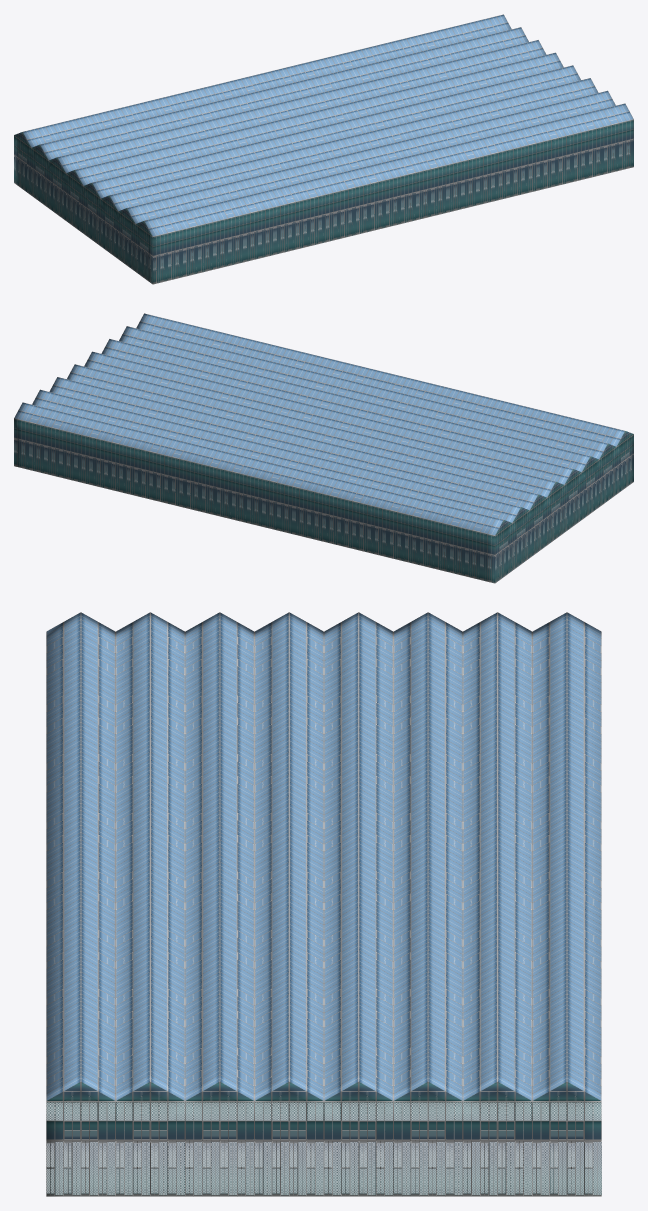
File: kas_mod3_5a.fbx
3 views of the same model, one above another, from view 1: azimuth 30°, elevation 25°; view 2: azimuth 150°, elevation 25°; view 3: azimuth 270°, elevation 25° (orthographic). The views are drawn at different scales.
Parts seen in each view (by area): view 1: kas_mod3_5a; view 2: kas_mod3_5a; view 3: kas_mod3_5a.
Part boxes in pixels (x1,y1,x2,y2): kas_mod3_5a: [14, 14, 633, 284]; kas_mod3_5a: [14, 313, 633, 583]; kas_mod3_5a: [46, 612, 601, 1196].
Size of the model in its own units: 16000 by 1829 by 8000.
